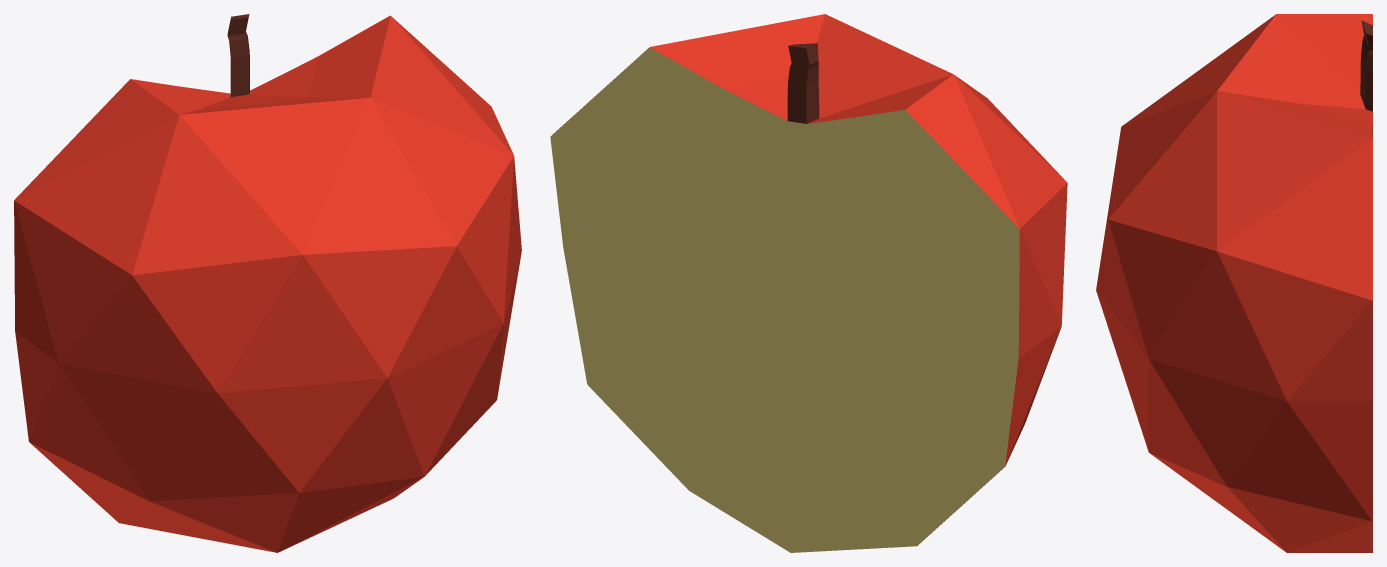
Rendered from AppleHalf1.fbx.
3 renders of one model, left to right at view 1: azimuth 30°, elevation 25°; view 2: azimuth 150°, elevation 25°; view 3: azimuth 270°, elevation 25°, orthographic.
Visible parts, largest first — view 1: AppleHalf1; view 2: AppleHalf1; view 3: AppleHalf1.
Boxes of the visible parts, x1,y1,x2,y2 form: AppleHalf1: (14,14,521,552); AppleHalf1: (550,14,1067,552); AppleHalf1: (1096,14,1372,552).
Size of the model in its own units: 196 by 204 by 100.
